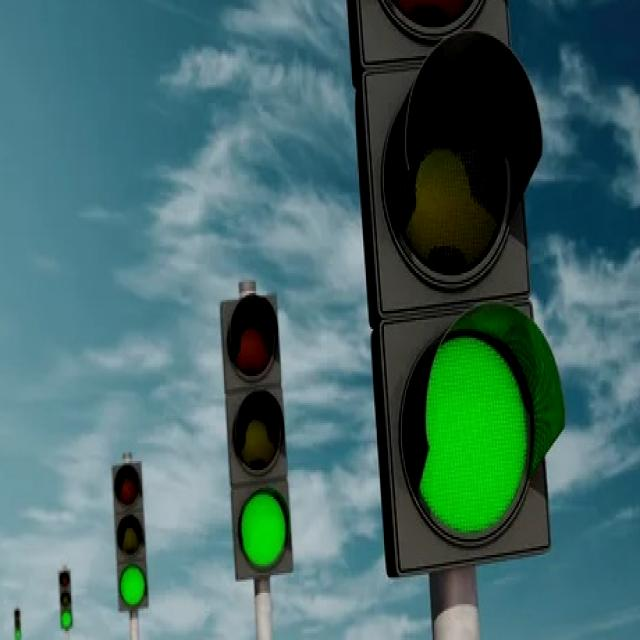yesil: (222, 292, 295, 581), (112, 460, 149, 612)
